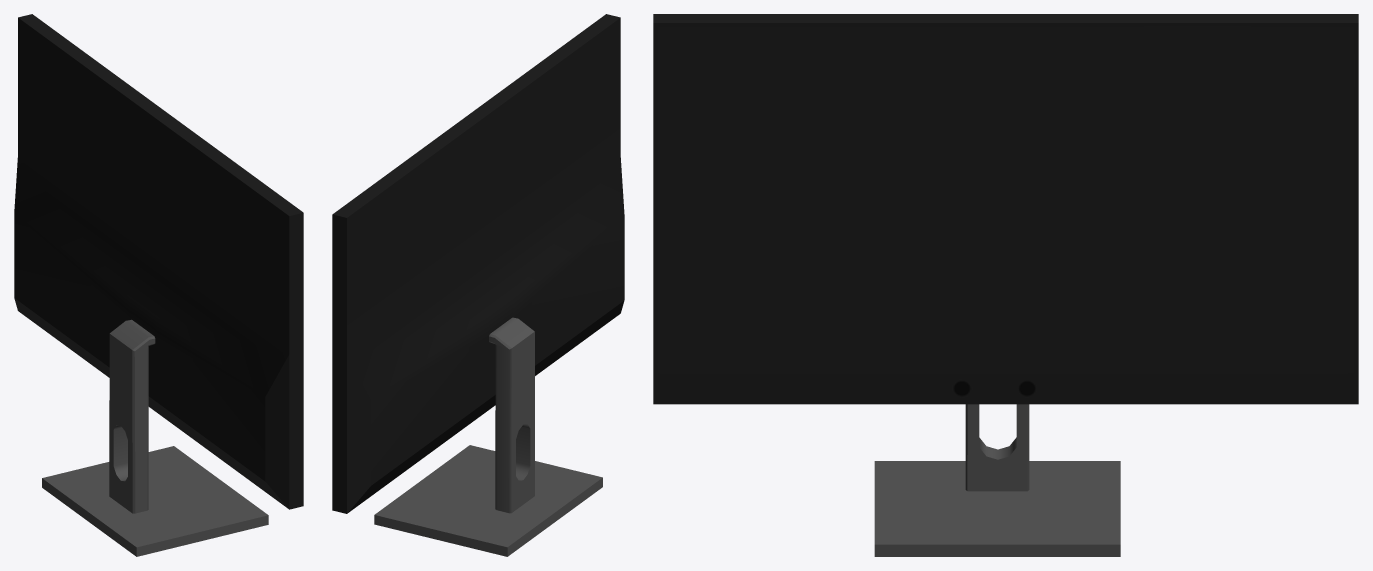
The model's file is computer_screen_left.glb.
3 renders of one model, left to right at view 1: azimuth 30°, elevation 25°; view 2: azimuth 150°, elevation 25°; view 3: azimuth 270°, elevation 25°, orthographic. The views are drawn at different scales.
Visible parts, largest first — view 1: Monitor_LP; view 2: Monitor_LP; view 3: Monitor_LP.
Boxes of the visible parts, x1,y1,x2,y2 form: Monitor_LP: [14, 14, 303, 556]; Monitor_LP: [332, 14, 624, 556]; Monitor_LP: [653, 14, 1358, 556].
Size of the model in its own units: 0.1778 by 0.4977 by 0.6333.
1 material, 1 textured.
